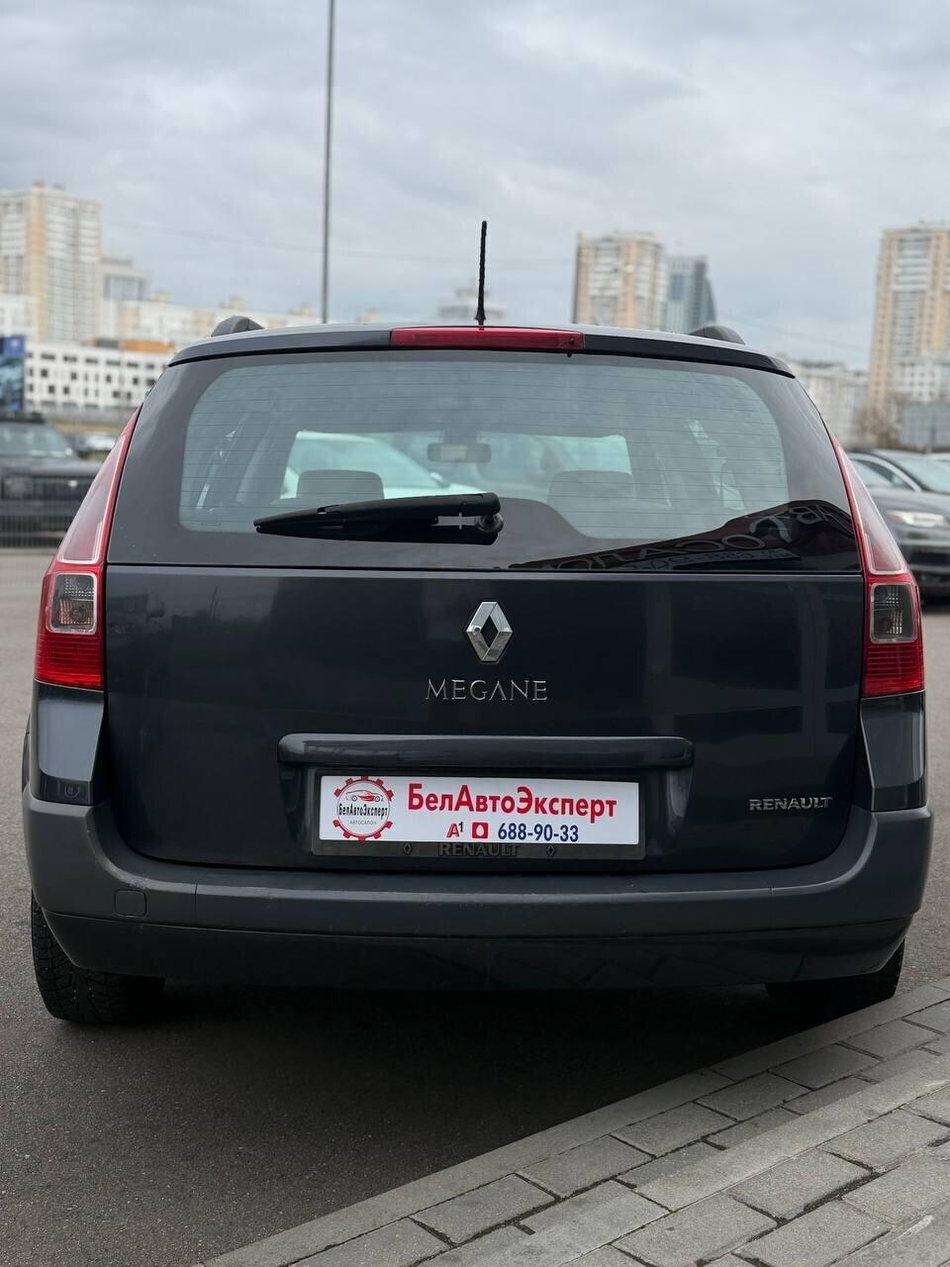Megane_2005-2009: (31, 323, 937, 1036)
